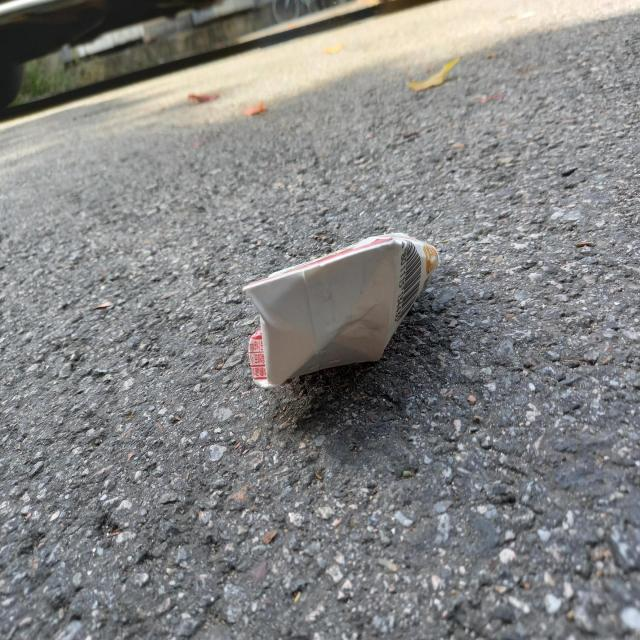paperpack: (243, 233, 439, 387)
